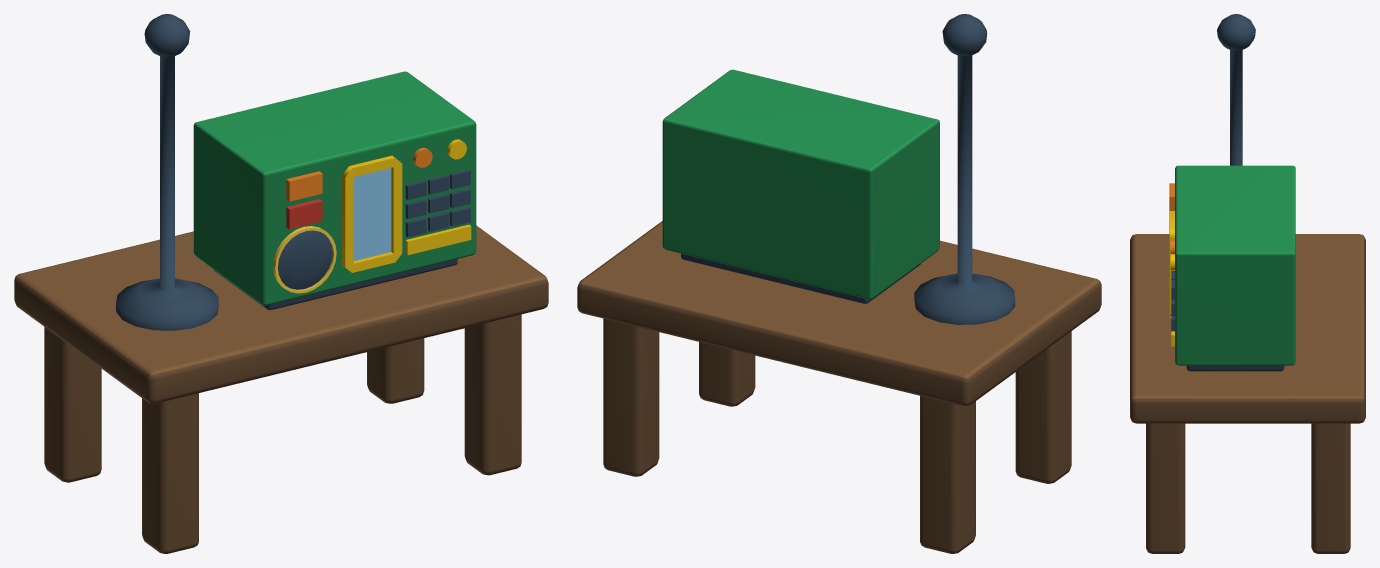
Rendered from Radio.fbx.
3 views of the same model, side by side, from view 1: azimuth 30°, elevation 25°; view 2: azimuth 150°, elevation 25°; view 3: azimuth 270°, elevation 25° (orthographic). The views are drawn at different scales.
Parts seen in each view (by area): view 1: Radio; view 2: Radio; view 3: Radio.
Boxes of the visible parts, bbox=[...] form: Radio: bbox=[14, 14, 548, 553]; Radio: bbox=[577, 14, 1101, 553]; Radio: bbox=[1130, 14, 1365, 553].
Size of the model in its own units: 2.5 by 2.91 by 1.5.
